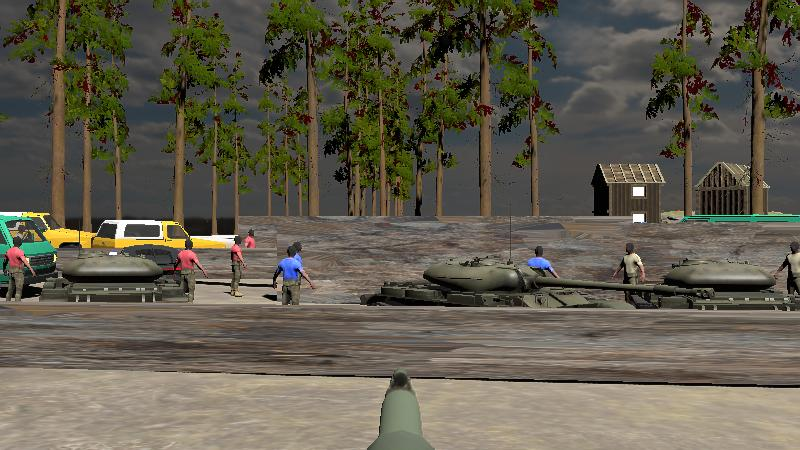House: (590, 160, 665, 221), (693, 160, 771, 218)
Human: (272, 243, 315, 305), (2, 236, 37, 302), (172, 239, 207, 303), (615, 239, 646, 303), (775, 241, 800, 299), (228, 233, 249, 298), (525, 244, 561, 281), (243, 228, 259, 253)
Tank: (357, 257, 654, 307), (563, 260, 800, 314), (36, 251, 202, 305)
car: (88, 218, 194, 261), (0, 213, 62, 278), (0, 218, 58, 285), (1, 212, 77, 259), (1, 212, 79, 255)
